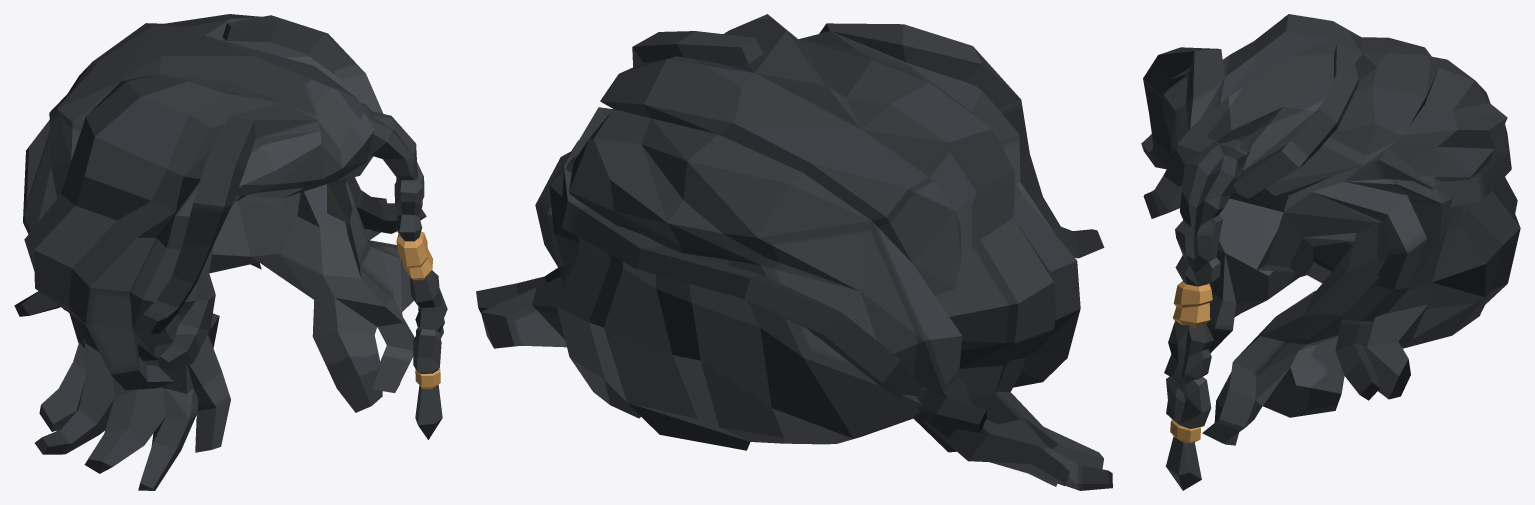
File: SM_Chr_Attach_Hair_Long_01.fbx
3 renders of one model, left to right at view 1: azimuth 30°, elevation 25°; view 2: azimuth 150°, elevation 25°; view 3: azimuth 270°, elevation 25°, orthographic. The views are drawn at different scales.
Visible parts, largest first — view 1: SM_Chr_Attach_Hair_Long_01; view 2: SM_Chr_Attach_Hair_Long_01; view 3: SM_Chr_Attach_Hair_Long_01.
Part boxes in pixels (left/top/right/bottom): SM_Chr_Attach_Hair_Long_01: left=14, top=14, right=447, bottom=490; SM_Chr_Attach_Hair_Long_01: left=476, top=14, right=1112, bottom=490; SM_Chr_Attach_Hair_Long_01: left=1141, top=14, right=1520, bottom=490.
Size of the model in its own units: 46.35 by 38.43 by 34.1.
